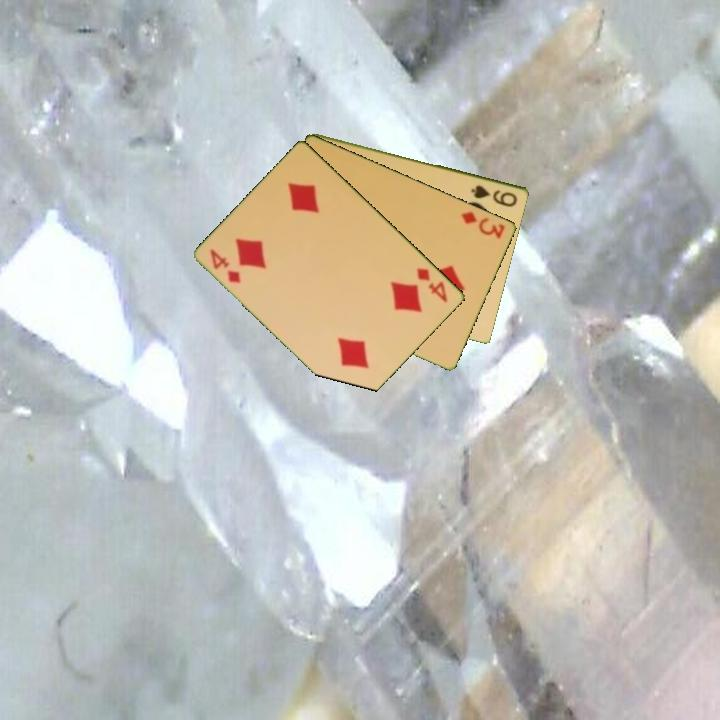3d: (458, 208, 508, 241)
4d: (413, 264, 451, 306), (206, 245, 244, 286)
9s: (468, 181, 520, 210)
